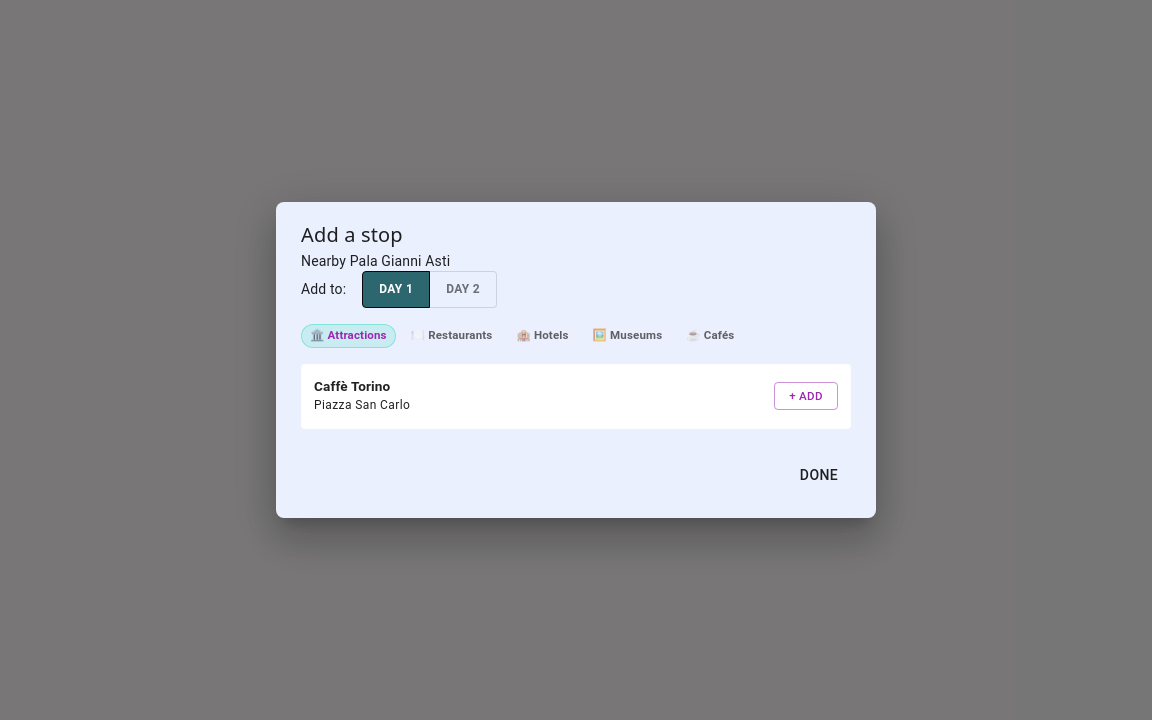
Test: AddStopDialog › shows the error when the stop limit is reached
What coordinates should you click on to do the following:
click the button "+ Add"
I would click on:
 (806, 396)
Its box is [774, 382, 838, 410].
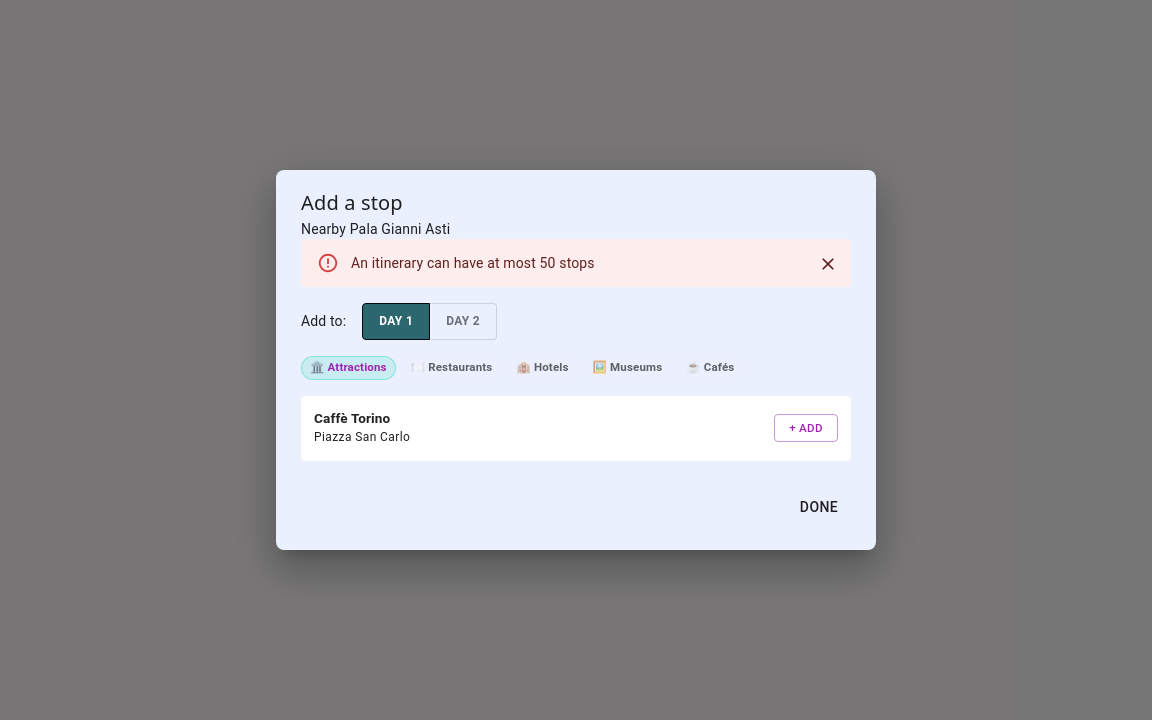
Now the text "An itinerary can have at most 50 stops" is shown, box [351, 255, 595, 271]
